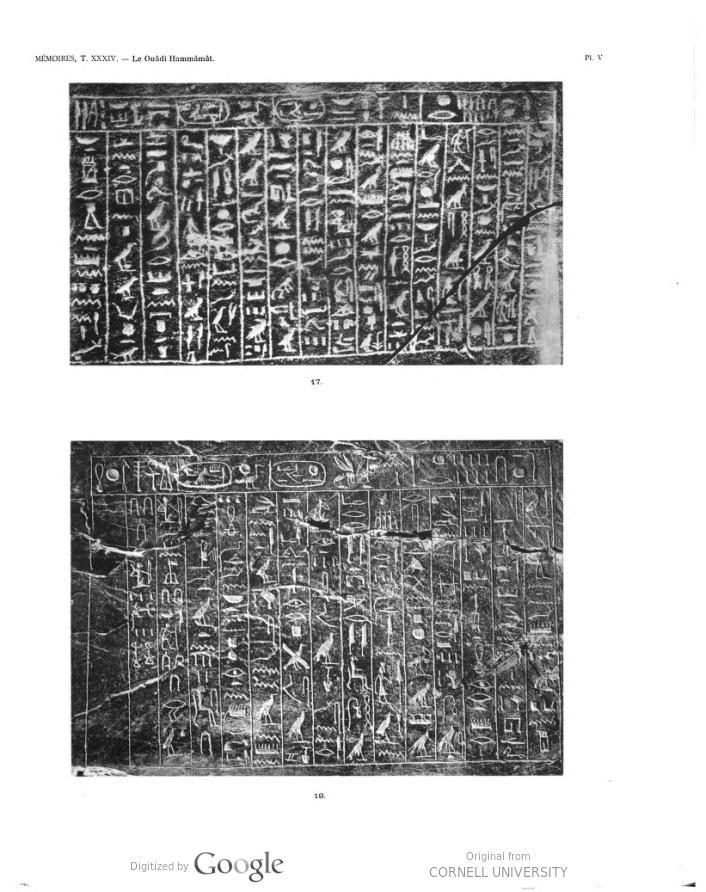circle: (259, 89, 341, 129), (261, 458, 333, 498), (170, 92, 236, 131), (167, 462, 238, 493)
